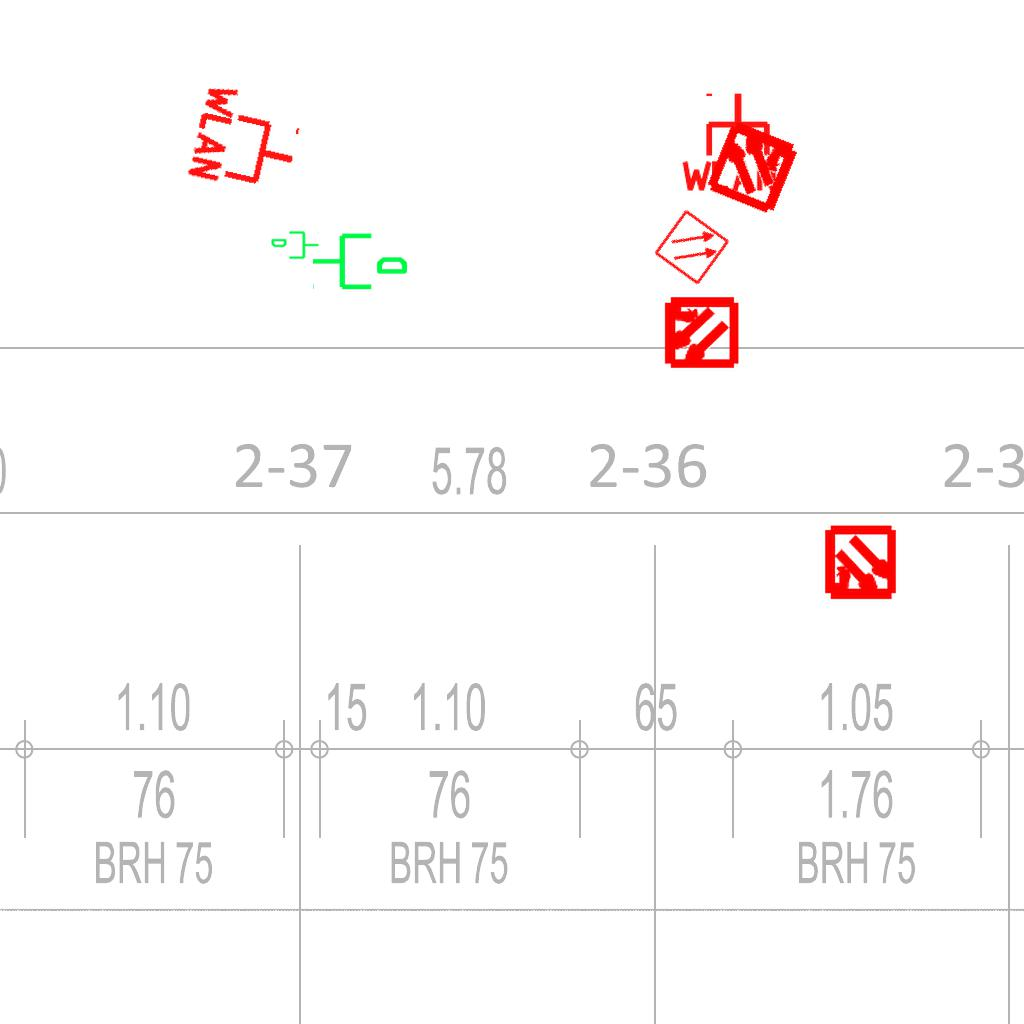Datenanschluss_einfach: (310, 225, 410, 294), (270, 229, 320, 263)
OT_Multisensormelder_(Kombination_RMO_WMD): (679, 91, 828, 240), (804, 508, 917, 621), (643, 276, 756, 389)
RMO_Rauchmelder_optischer: (652, 207, 732, 287)
WLAN: (184, 77, 311, 203), (677, 89, 781, 194)
